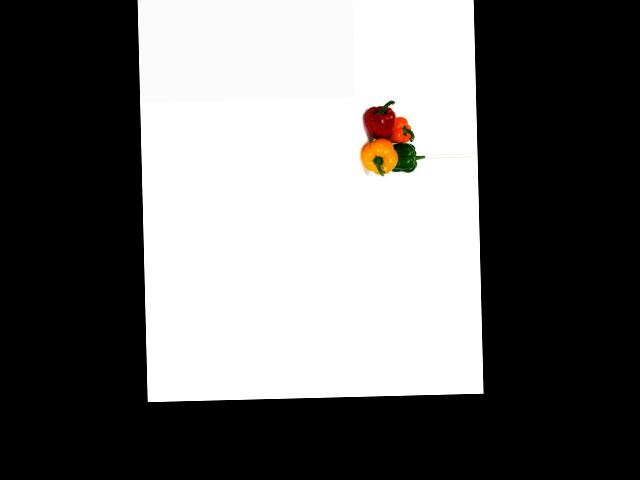bell_pepper: (359, 136, 398, 178)
